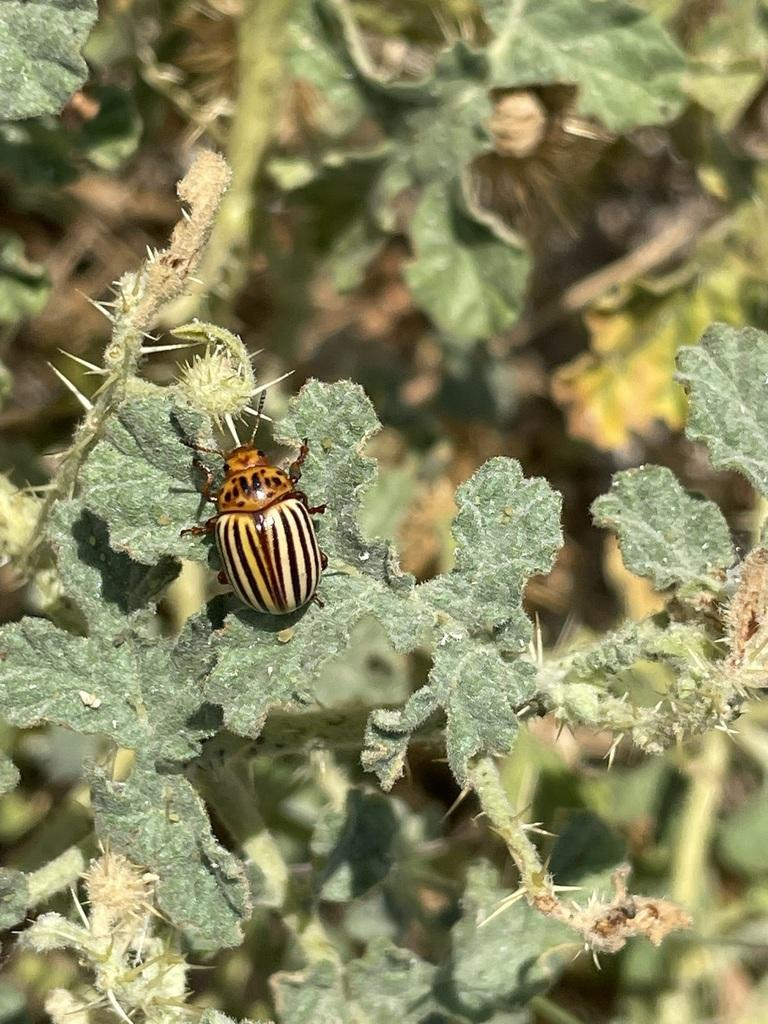potato_beetle: (144, 376, 396, 659)
